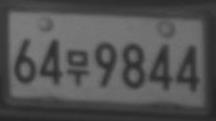4: (175, 45, 202, 92), (148, 44, 174, 91), (39, 39, 63, 85)
6: (13, 37, 37, 84)
8: (120, 42, 147, 89)
9: (94, 41, 116, 88)
무: (66, 47, 88, 85)
